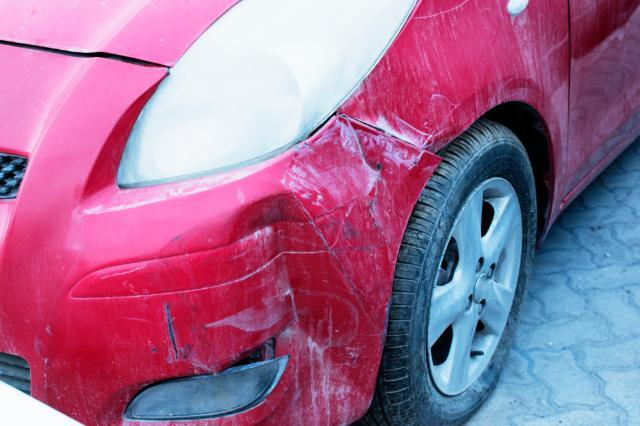crack: (163, 302, 181, 361)
dent: (221, 190, 383, 418)
scratch: (280, 114, 427, 229)
